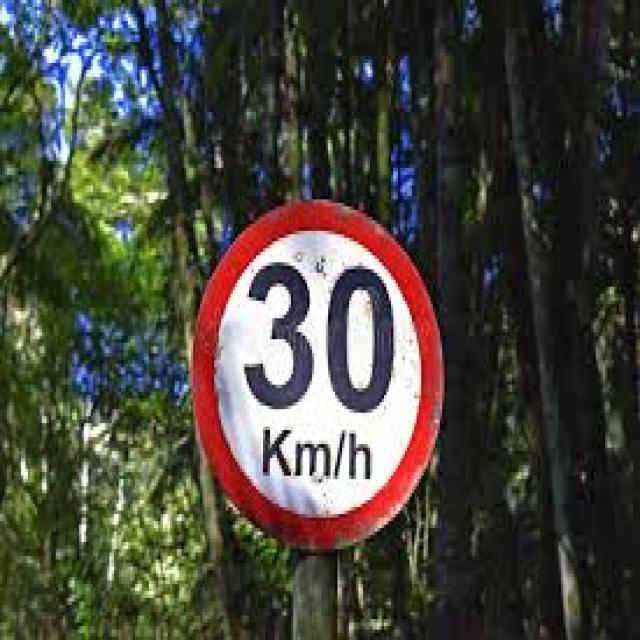Speed limit 30: (189, 194, 448, 554)
